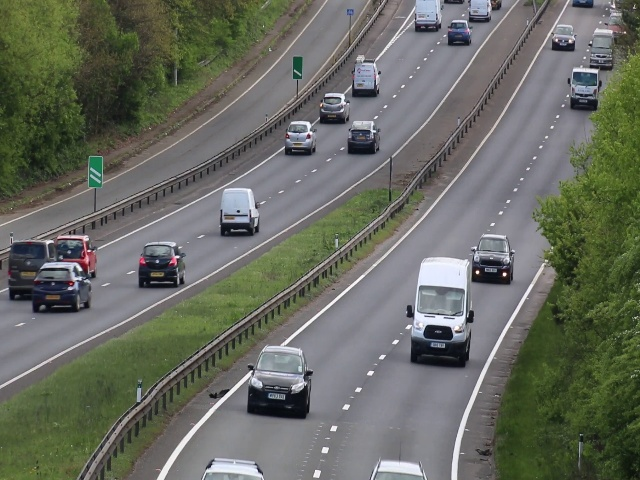car: (405, 252, 477, 369), (244, 342, 313, 421), (31, 261, 91, 315), (5, 237, 47, 301), (139, 238, 186, 289), (471, 232, 516, 285), (218, 183, 260, 237), (59, 233, 102, 270), (284, 116, 318, 158), (346, 117, 384, 154), (350, 59, 383, 99), (571, 66, 598, 113), (317, 90, 352, 125), (587, 27, 614, 69), (413, 1, 442, 34), (551, 24, 579, 54), (447, 17, 473, 46)
